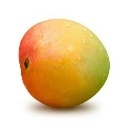mango: (18, 19, 110, 110)
